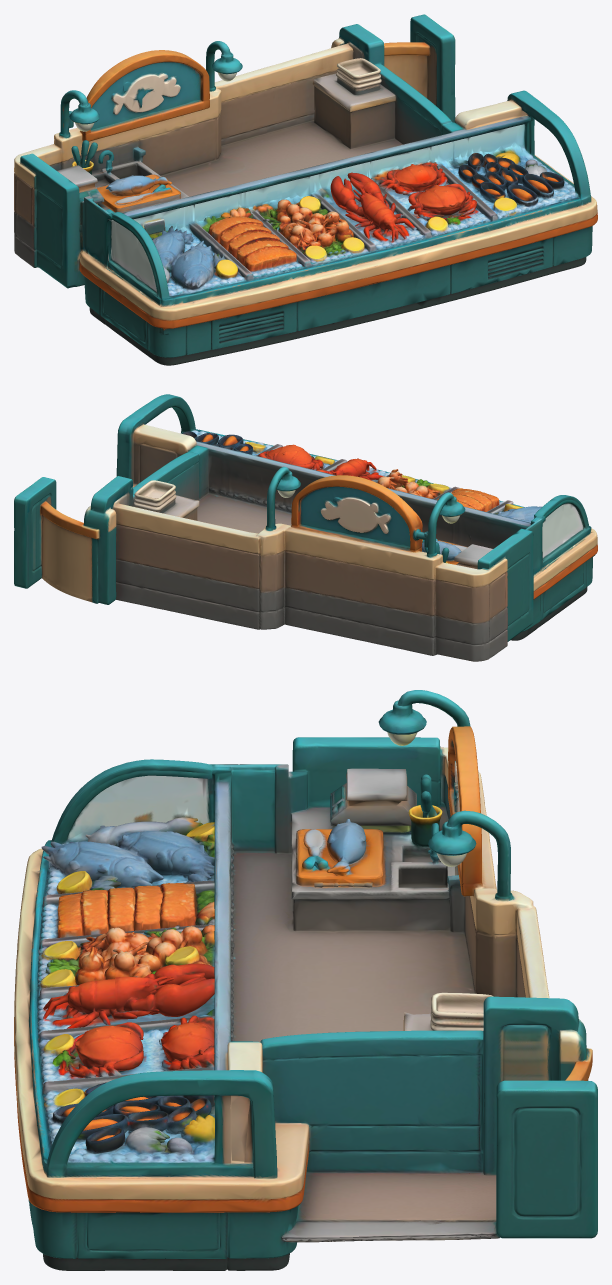
File: SeafoodCounter.glb
3 renders of one model, top to bottom at view 1: azimuth 30°, elevation 25°; view 2: azimuth 150°, elevation 25°; view 3: azimuth 270°, elevation 25°, orthographic. The views are drawn at different scales.
Visible parts, largest first — view 1: tripo_node_5869748f-fd7b-4aff-9c02-3ee13aab27fd; view 2: tripo_node_5869748f-fd7b-4aff-9c02-3ee13aab27fd; view 3: tripo_node_5869748f-fd7b-4aff-9c02-3ee13aab27fd.
Boxes of the visible parts, x1=… form: tripo_node_5869748f-fd7b-4aff-9c02-3ee13aab27fd: x1=14, y1=14, x2=597, y2=365; tripo_node_5869748f-fd7b-4aff-9c02-3ee13aab27fd: x1=14, y1=394, x2=597, y2=661; tripo_node_5869748f-fd7b-4aff-9c02-3ee13aab27fd: x1=14, y1=690, x2=597, y2=1270.
Size of the model in its own units: 0.9796 by 0.3822 by 0.6918.
1 material, 1 textured.
